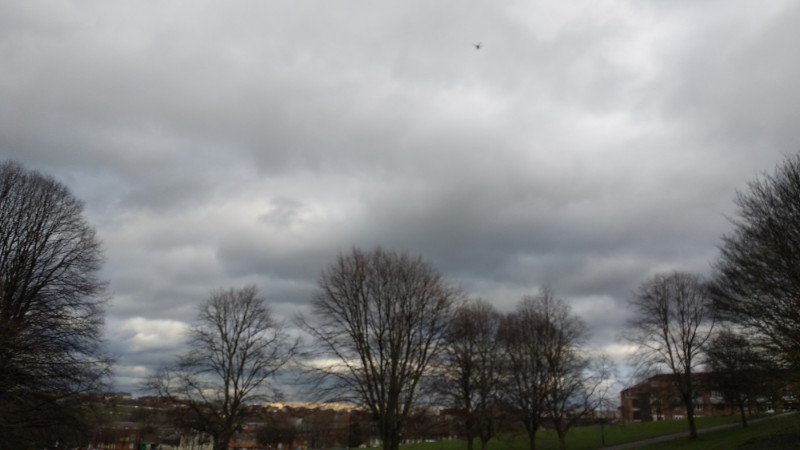drone: (474, 42, 482, 51)
